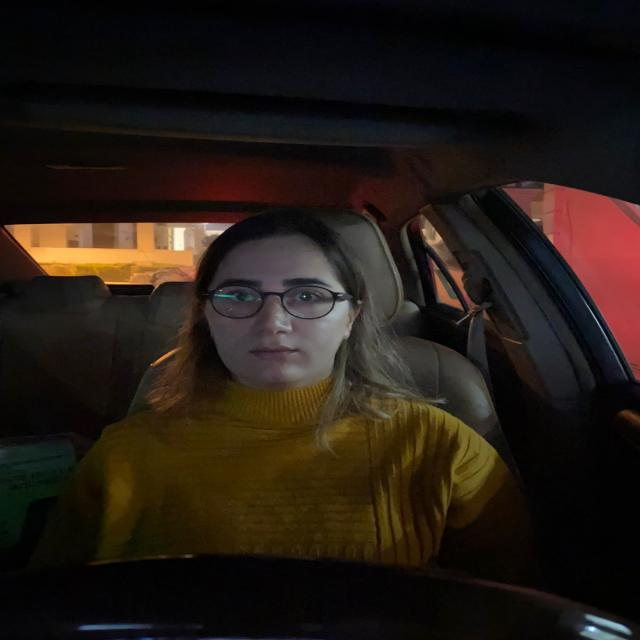person: (182, 218, 374, 399)
